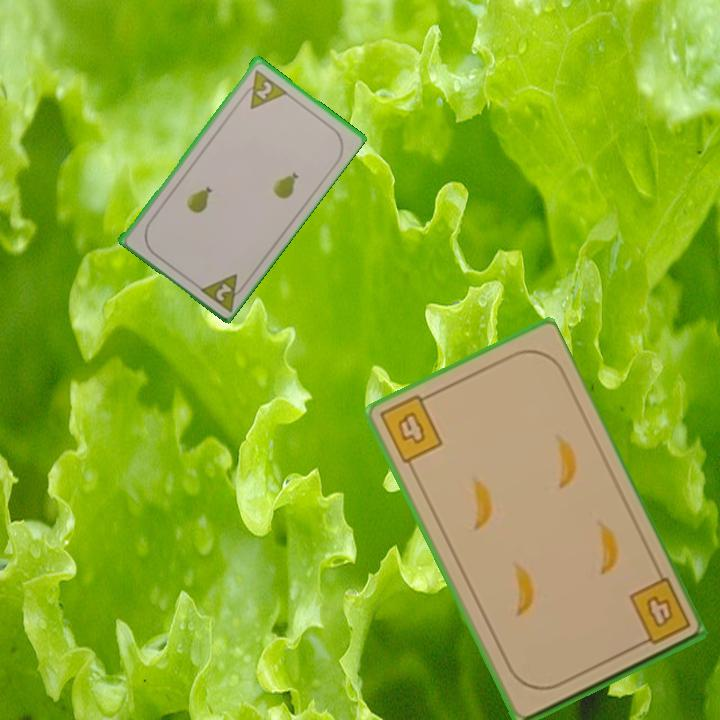2p: (195, 269, 251, 314), (238, 65, 289, 112)
4b: (376, 389, 446, 467), (625, 575, 694, 651)
